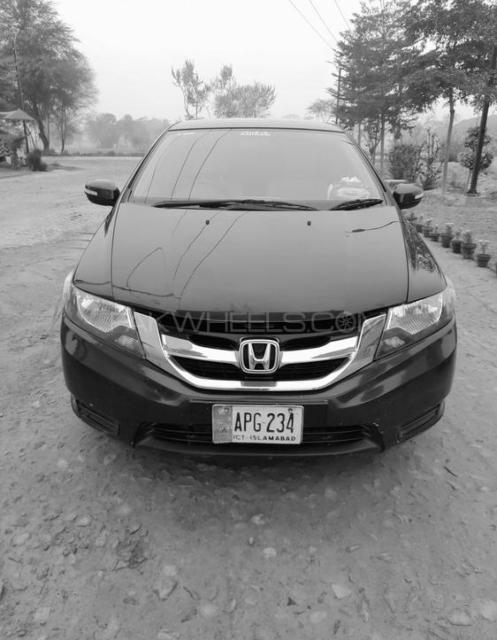Number: (237, 412, 299, 434)
